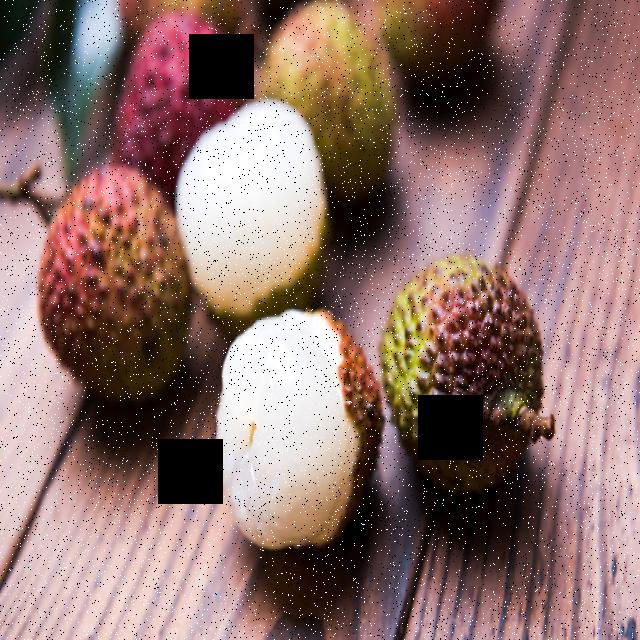lychee: (206, 250, 583, 556)
